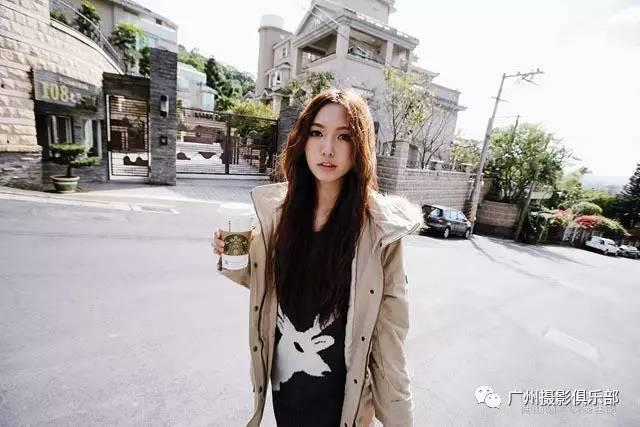people: (220, 89, 411, 427)
